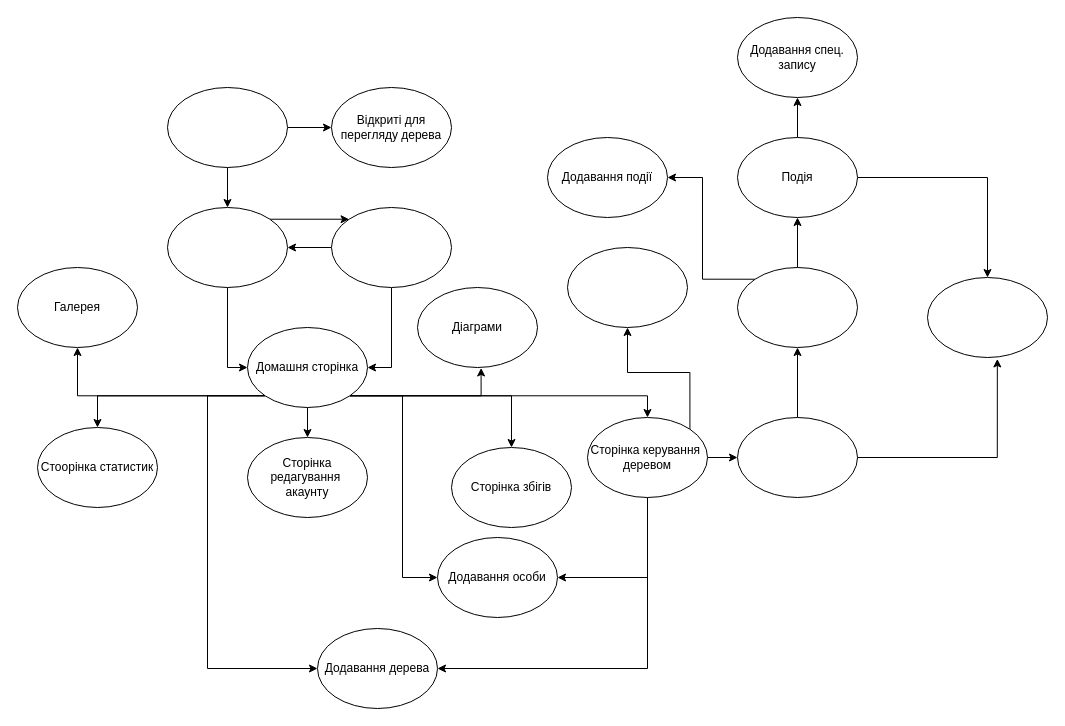
This 1065x726 diagram has some shape labels left out. The shapes that lost their labels are listed below. From the top down, each one's centre as x and y in pixels, then its label:
At [227,127]: "Головна сторінка".
At [227,247]: "Сторінка логування".
At [391,247]: "Сторінка реєстрації".
At [627,287]: "Додавання зв'язку Користувач-Дерево".
At [797,307]: "Календар подій".
At [987,317]: "Додавання медіа".
At [797,457]: "Профіль особи".
